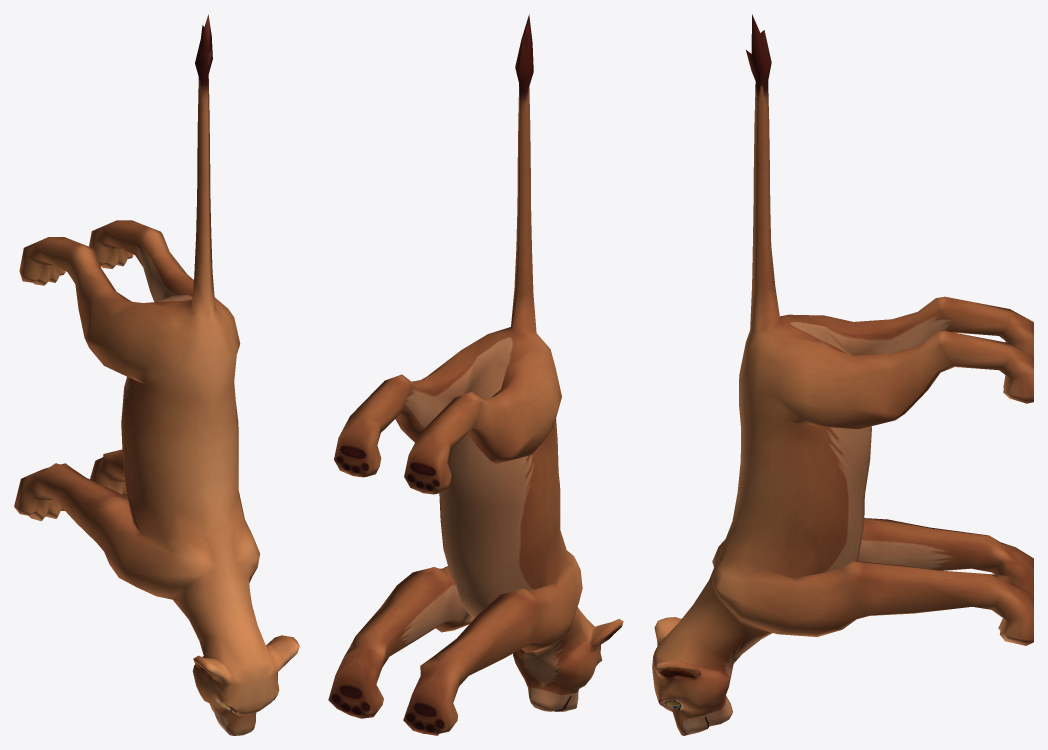
Rendered from Nala.obj.
The picture shows the model from 3 angles, left to right: view 1: azimuth 30°, elevation 25°; view 2: azimuth 150°, elevation 25°; view 3: azimuth 270°, elevation 25°; orthographic projection. The views are drawn at different scales.
Size of the model in its own units: 60.65 by 324 by 156.
2 materials, 2 textured.
